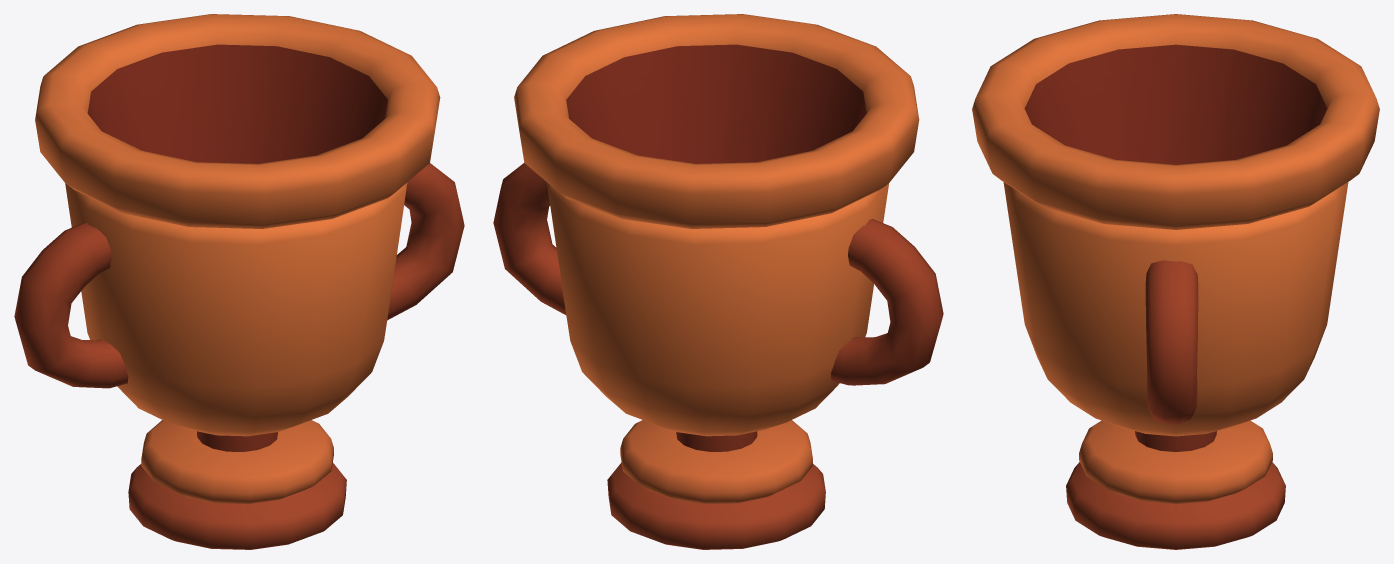
File: Trophy_V2_0.fbx
The picture shows the model from 3 angles, left to right: view 1: azimuth 30°, elevation 25°; view 2: azimuth 150°, elevation 25°; view 3: azimuth 270°, elevation 25°; orthographic projection.
Visible parts, largest first — view 1: Trophy_V2_0; view 2: Trophy_V2_0; view 3: Trophy_V2_0.
Boxes of the visible parts, x1,y1,x2,y2 form: Trophy_V2_0: (14,14,464,549); Trophy_V2_0: (493,14,943,549); Trophy_V2_0: (972,14,1379,549).
Bounding box in the file's own units: 0.4706 × 0.4225 × 0.3783.
